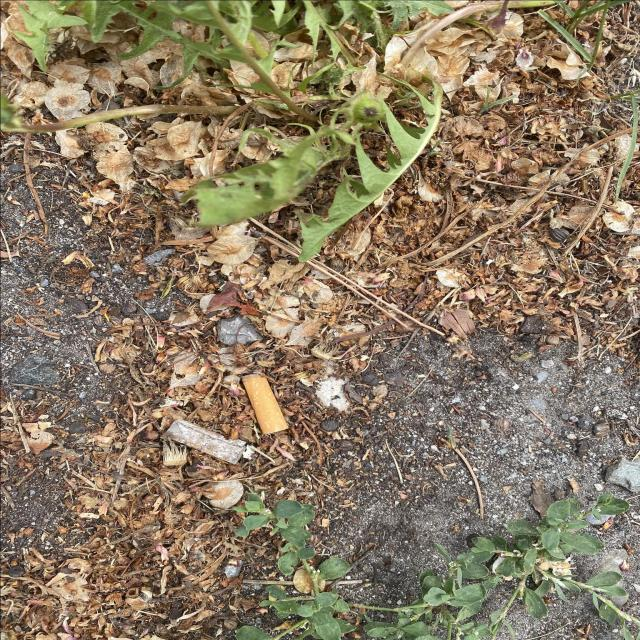other waste: (240, 371, 288, 435)
